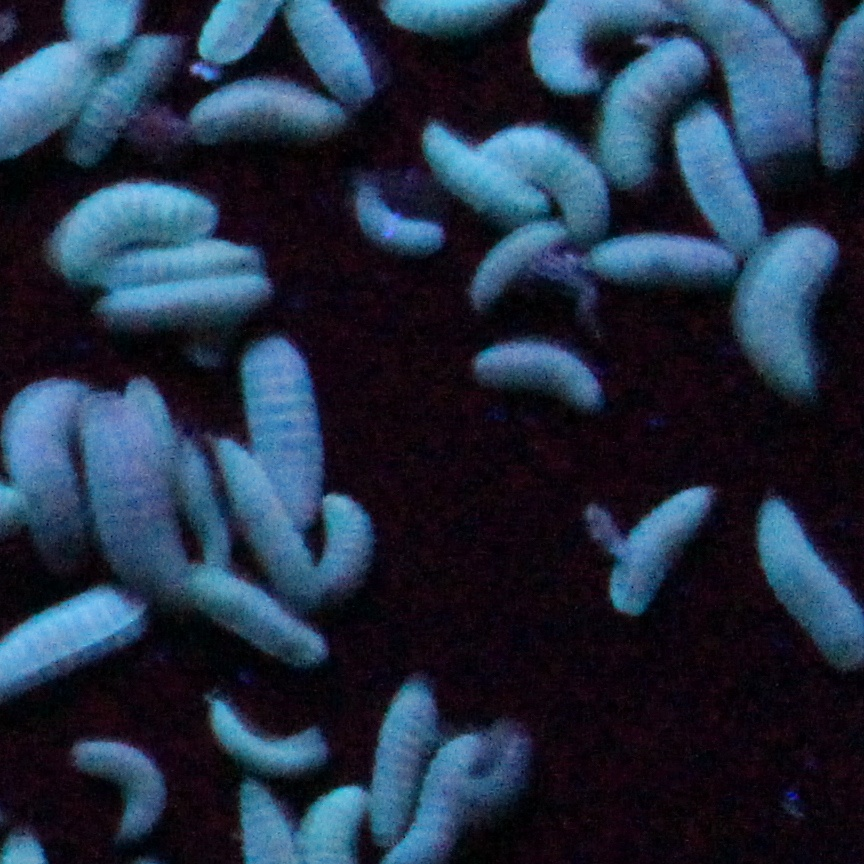larve: (75, 385, 200, 587), (216, 437, 320, 601), (239, 333, 325, 528), (45, 180, 229, 271), (743, 224, 839, 394), (2, 364, 91, 542), (607, 483, 718, 619), (182, 567, 332, 660), (68, 35, 175, 164), (602, 39, 698, 180), (673, 108, 768, 249), (486, 124, 607, 233), (459, 337, 618, 410), (427, 126, 545, 219), (207, 699, 329, 785), (375, 678, 436, 846), (582, 224, 739, 283), (82, 728, 166, 837), (177, 80, 343, 130), (170, 439, 234, 567), (100, 274, 282, 314), (470, 226, 564, 301), (104, 239, 259, 283), (359, 178, 443, 253), (309, 492, 370, 589)
